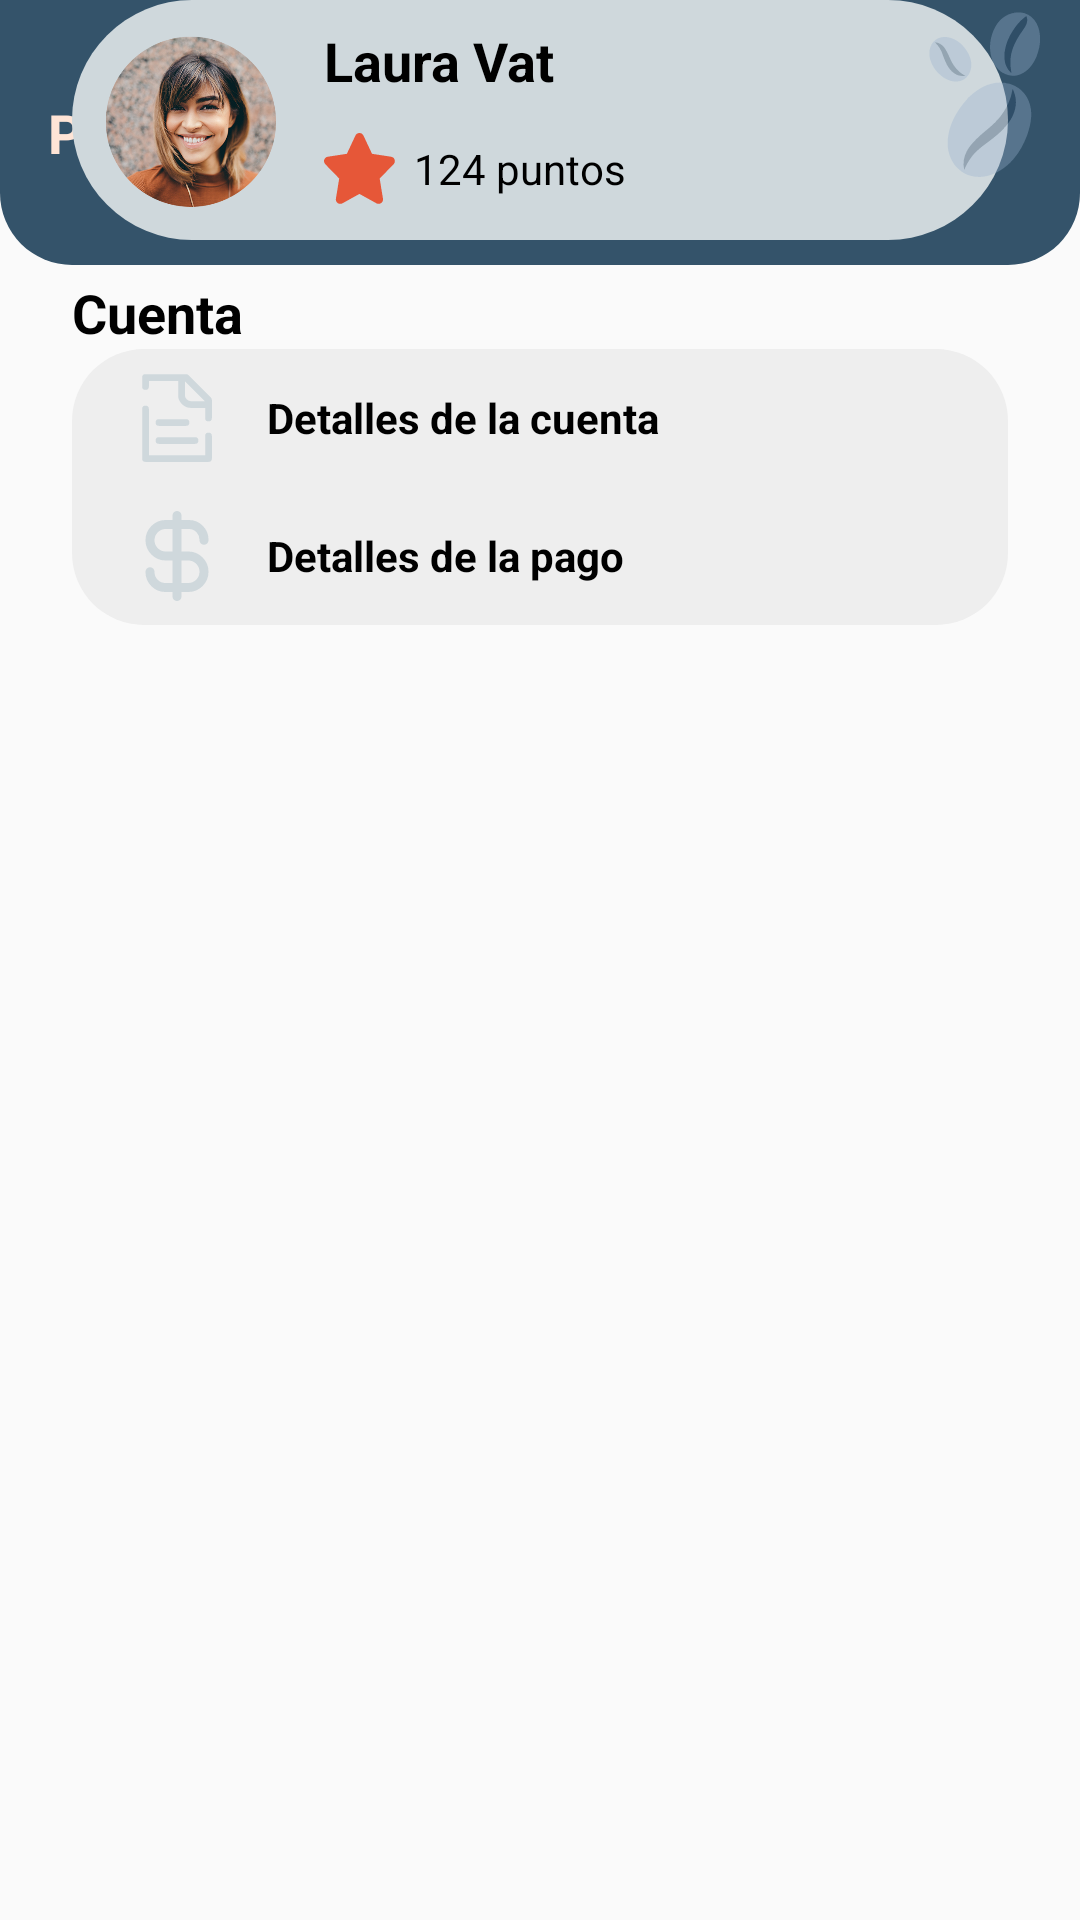

Point at icon controls on the screen. Image size 1080px x 1920px, points as [x,y].
document: [177,418]
dollar sign: [177,556]
profile photo: [191,122]
star: [359,168]
